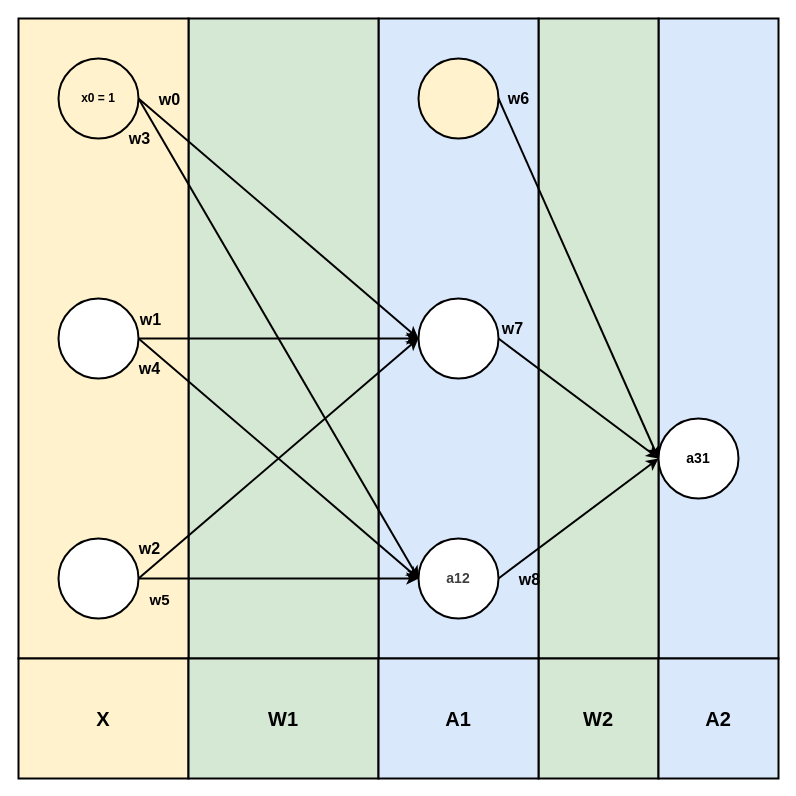
Image size: 796x796. Some labels were removed from this diagram. Here are the shapes that lost their labels. From the top down, the box of each, then its label:
(417, 57, 499, 139): a10 = 1
(57, 297, 139, 379): x1
(417, 297, 499, 379): a11
(57, 537, 139, 619): x2
